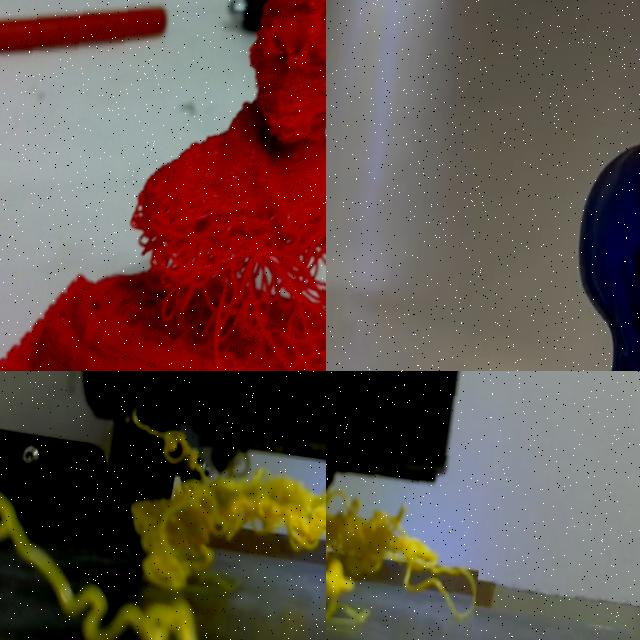spaghetti: (0, 0, 326, 371), (122, 407, 326, 590), (0, 490, 198, 640), (326, 493, 476, 623)
